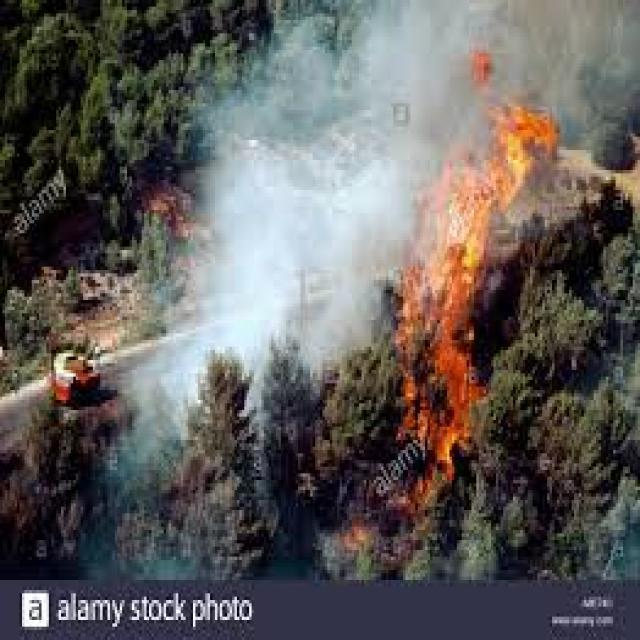Fire: (407, 110, 566, 300), (386, 305, 508, 547)
Smoke: (201, 0, 392, 333), (84, 318, 230, 520), (395, 0, 640, 113)
